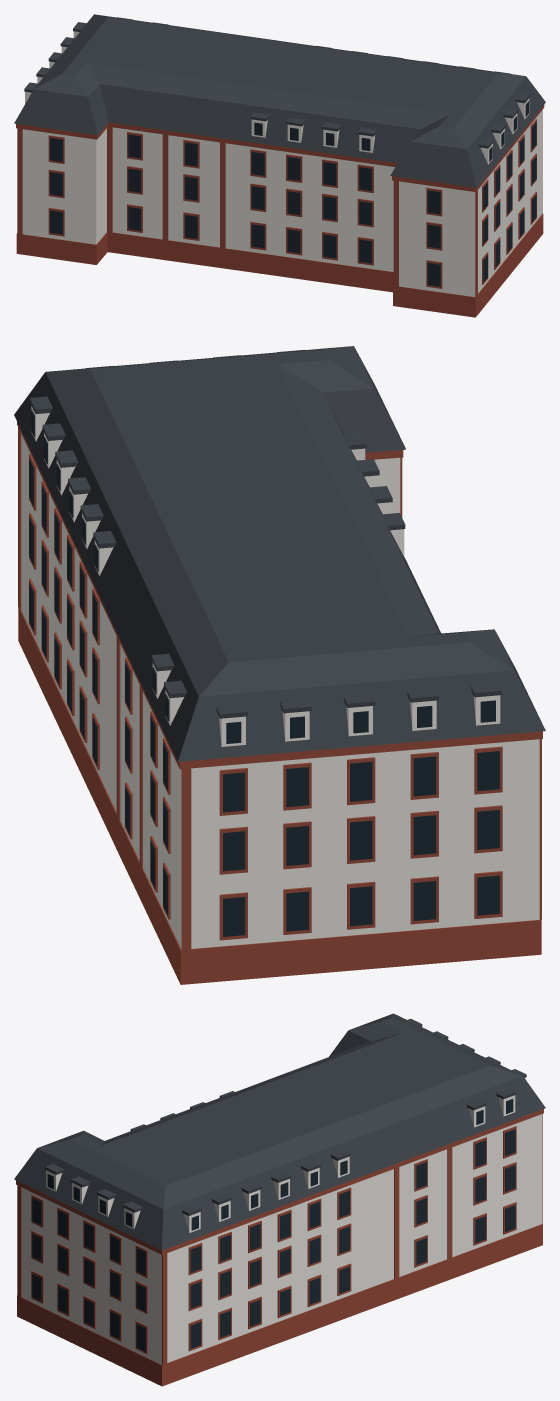
The model's file is kommandantur.glb.
The picture shows the model from 3 angles, top to bottom: view 1: azimuth 30°, elevation 25°; view 2: azimuth 150°, elevation 25°; view 3: azimuth 270°, elevation 25°; orthographic projection. The views are drawn at different scales.
Visible parts, largest first — view 1: kommandantur_lod0; view 2: kommandantur_lod0; view 3: kommandantur_lod0.
Boxes of the visible parts, x1,y1,x2,y2 form: kommandantur_lod0: (14,14,545,317); kommandantur_lod0: (14,346,545,984); kommandantur_lod0: (14,1013,545,1386).
Size of what is drawn, in the model's own units: 43.76 by 16.9 by 45.68.
